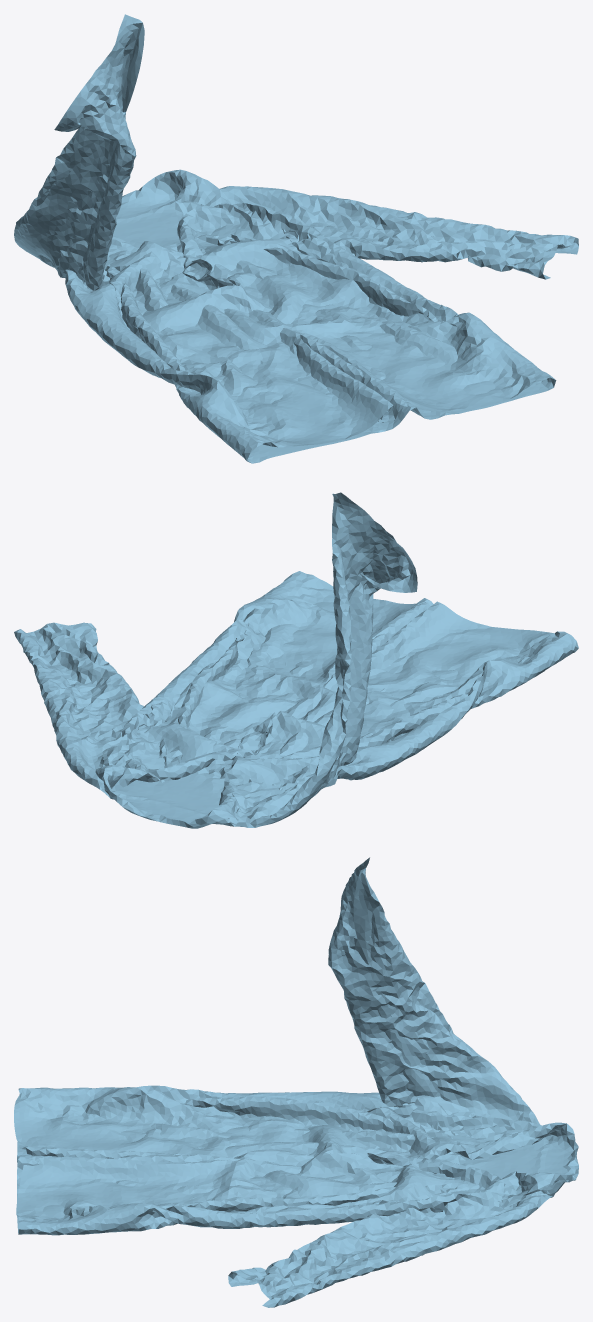
The model's file is frame_11.glb.
3 renders of one model, top to bottom at view 1: azimuth 30°, elevation 25°; view 2: azimuth 150°, elevation 25°; view 3: azimuth 270°, elevation 25°, orthographic. The views are drawn at different scales.
Parts seen in each view (by area): view 1: frame_11.obj; view 2: frame_11.obj; view 3: frame_11.obj.
Part boxes in pixels (x1,y1,x2,y2): frame_11.obj: [14, 14, 578, 463]; frame_11.obj: [14, 492, 578, 828]; frame_11.obj: [14, 857, 578, 1307].
Size of the model in its own units: 1.52 by 0.8981 by 1.68.
